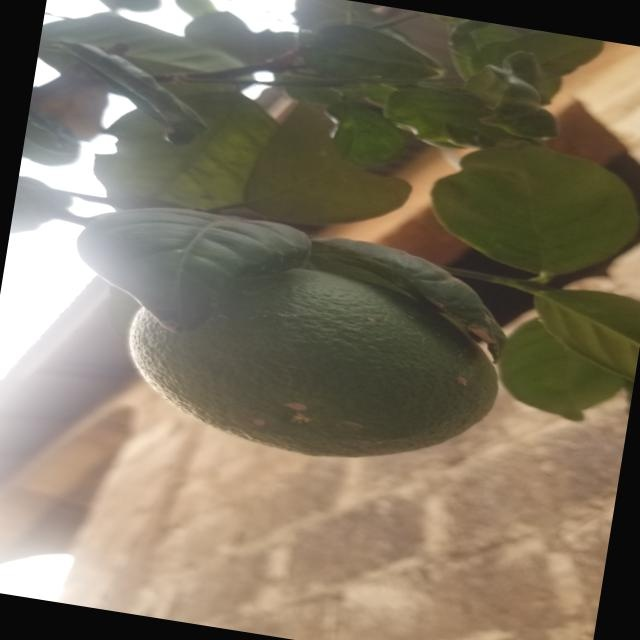agrume: (96, 244, 524, 504)
